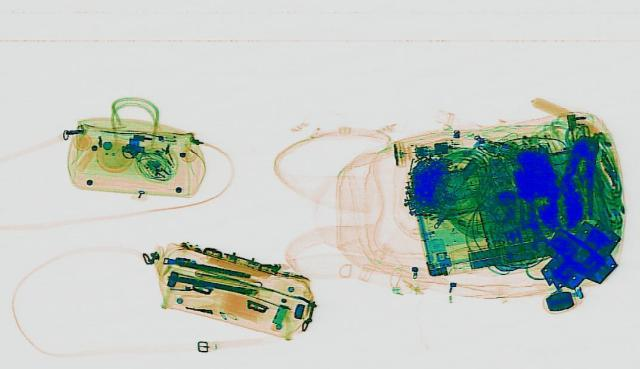Pliers: (548, 134, 608, 219)
Wrench: (516, 197, 554, 249)
